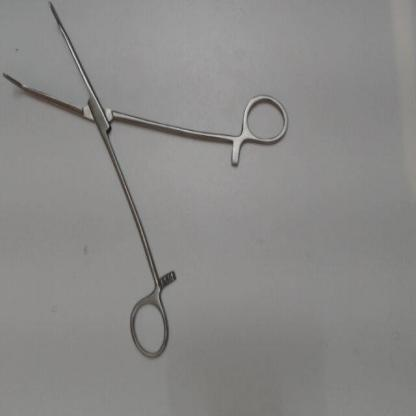Lahey Forceps: (0, 1, 296, 365)
